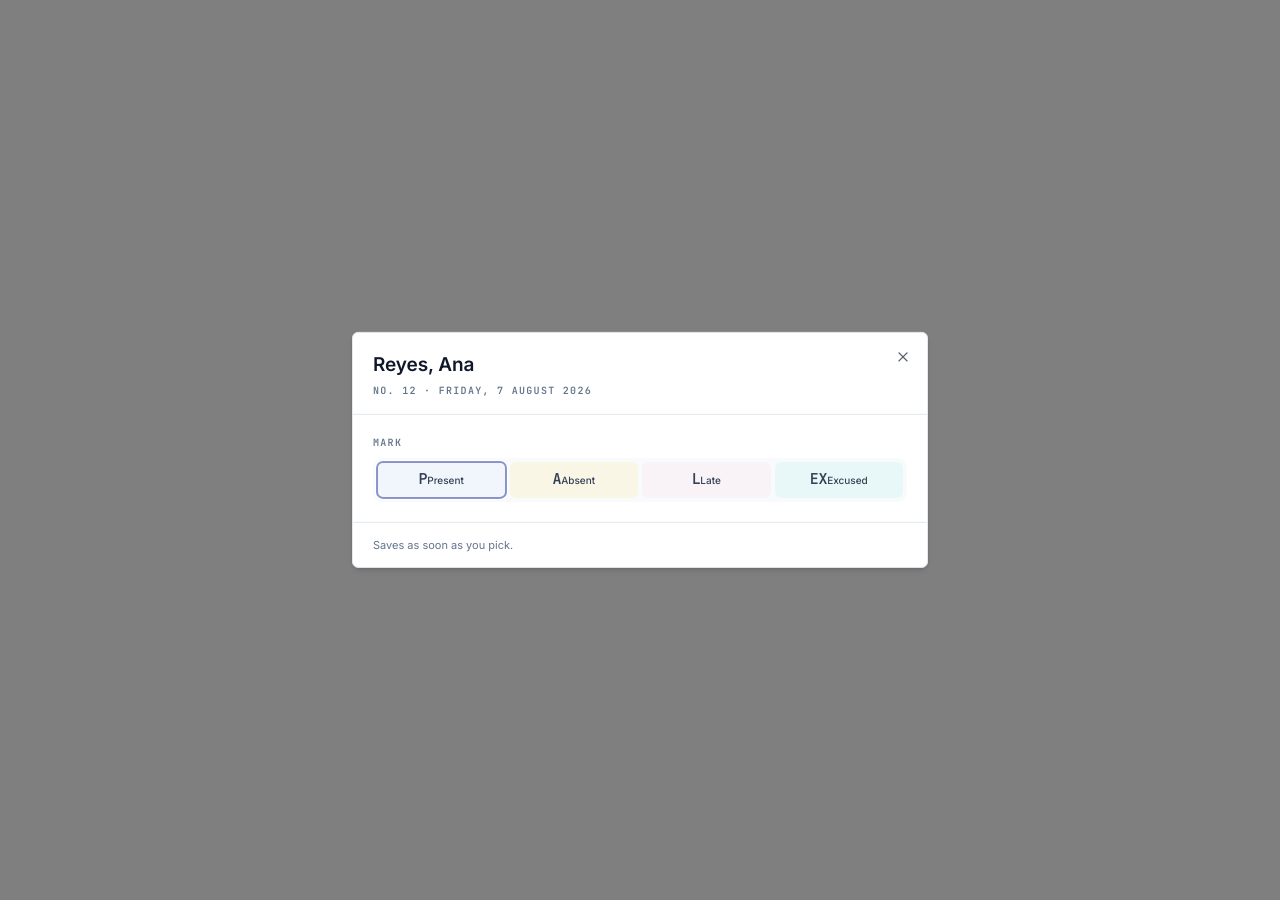
Scenario: quotas read as what is left, not as a fraction › says none left when the allowance is spent
What coordinates should you click on to do the following:
click the radio button labelled "Excused"
I would click on:
 (839, 480)
Its box is [774,462,903,498].
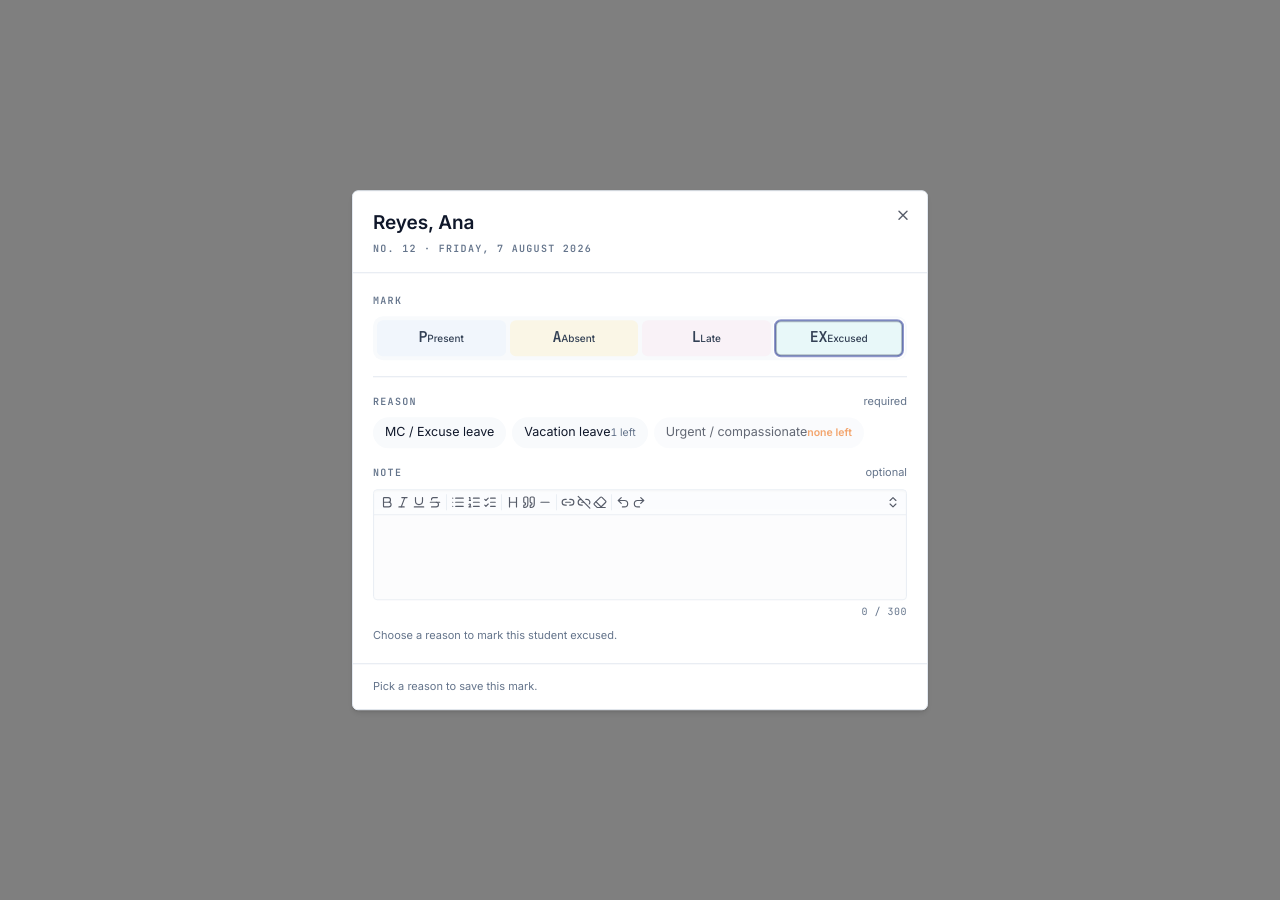
Now the text "none left" is shown, box [807,426,852,440]
